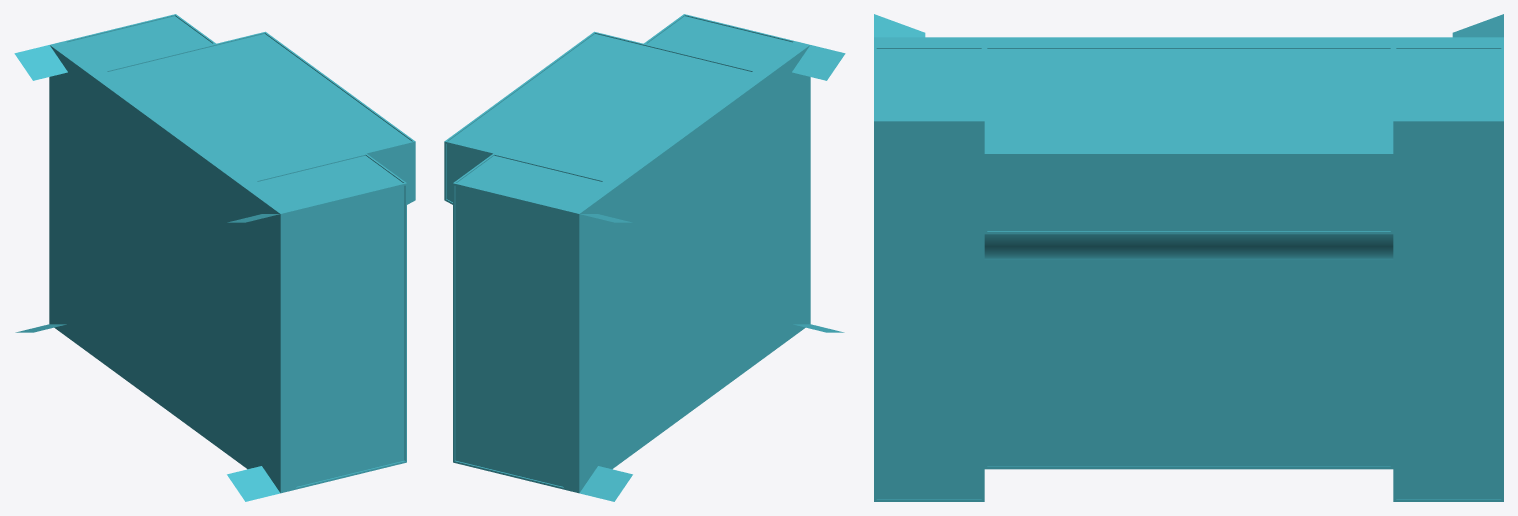
3 views of the same model, side by side, from view 1: azimuth 30°, elevation 25°; view 2: azimuth 150°, elevation 25°; view 3: azimuth 270°, elevation 25° (orthographic). The views are drawn at different scales.
Visible parts, largest first — view 1: Renderer Node; view 2: Renderer Node; view 3: Renderer Node.
Boxes of the visible parts, x1,y1,x2,y2 form: Renderer Node: (14, 14, 415, 501); Renderer Node: (444, 14, 845, 501); Renderer Node: (874, 14, 1503, 501).
Bounding box in the file's own units: 0.4011 × 0.5081 × 0.7622.
Materials: 1 (1 with a texture image).
